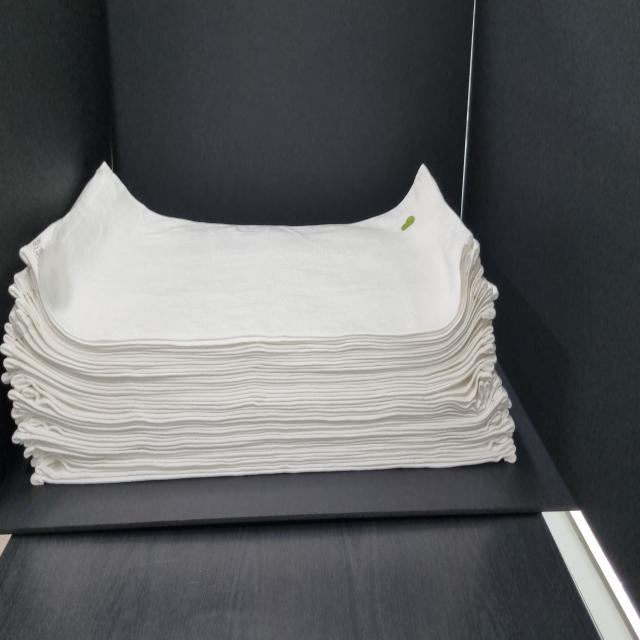not_50count_towel: (0, 152, 537, 498)
